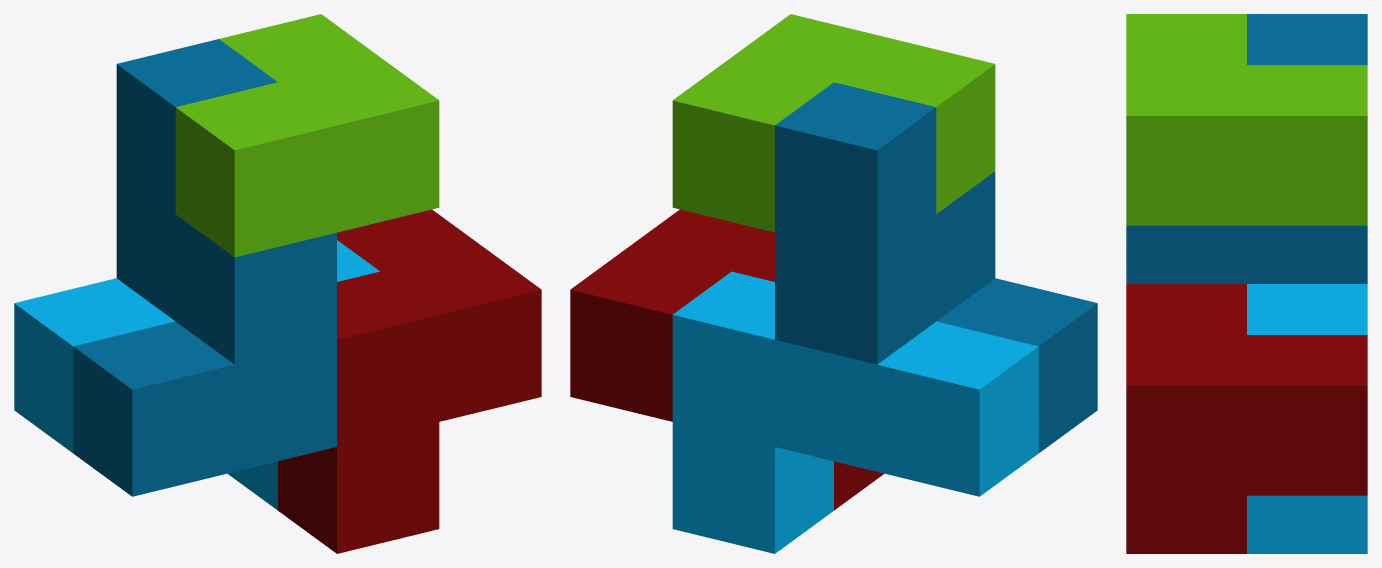
The picture shows the model from 3 angles, left to right: view 1: azimuth 30°, elevation 25°; view 2: azimuth 150°, elevation 25°; view 3: azimuth 270°, elevation 25°; orthographic projection. The views are drawn at different scales.
Visible parts, largest first — view 1: mergedBlocks(Clone); view 2: mergedBlocks(Clone); view 3: mergedBlocks(Clone).
Boxes of the visible parts, x1,y1,x2,y2 form: mergedBlocks(Clone): (14,14,541,553); mergedBlocks(Clone): (570,14,1097,553); mergedBlocks(Clone): (1126,14,1367,553).
Size of the model in its own units: 4 by 4 by 2.
Materials: 4 (4 with a texture image).
